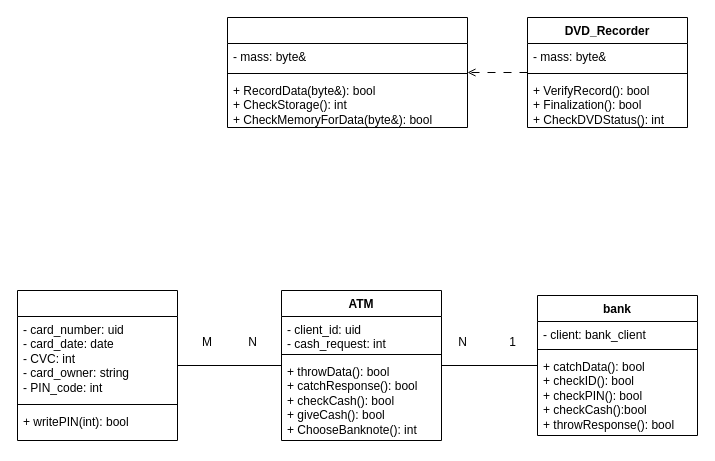
Some shapes in this 715 by 461 pixel diagram are drawn without their labels. The shapes that lost their labels are listed below. From the top down, each one's box as (x1, y1, x2, y2) in pixels, then its label:
(226, 16, 468, 128): DVD
(16, 290, 178, 440): bank_client
